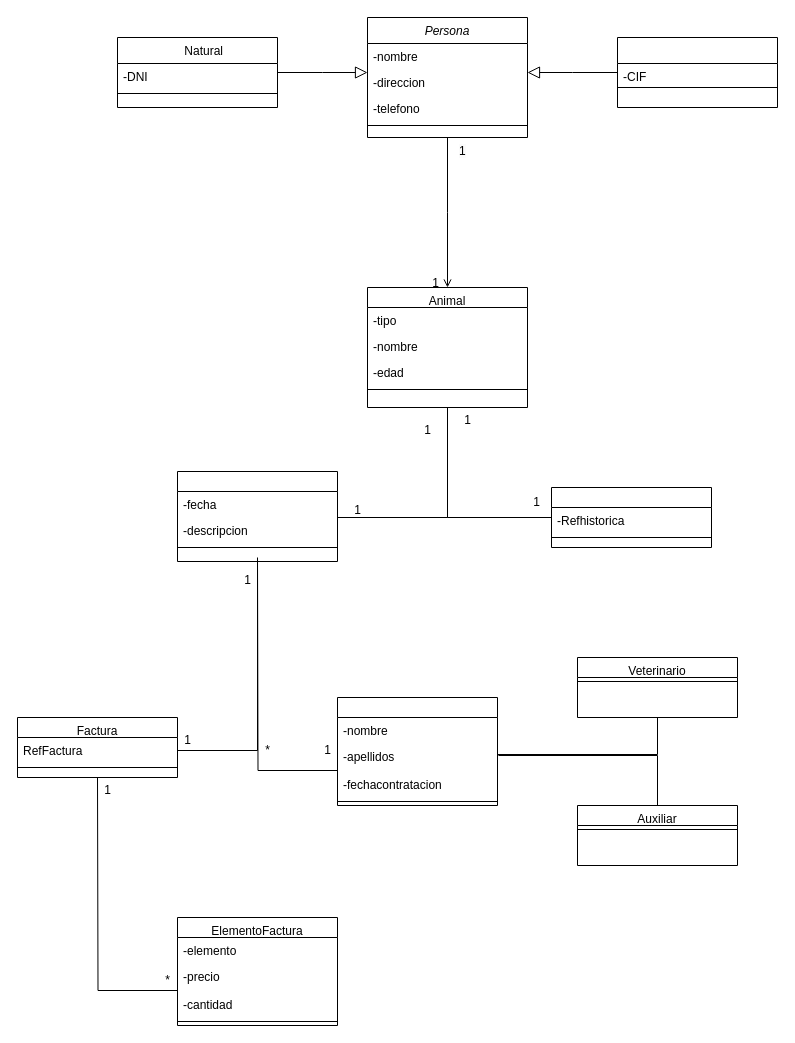
This 795x1043 diagram has some shape labels left out. Each missing label, with the box of its shape:
Diagnostico: (176, 470, 338, 562)
Historial: (550, 486, 712, 548)
Juridica: (616, 36, 778, 108)
Personal: (336, 696, 498, 806)
